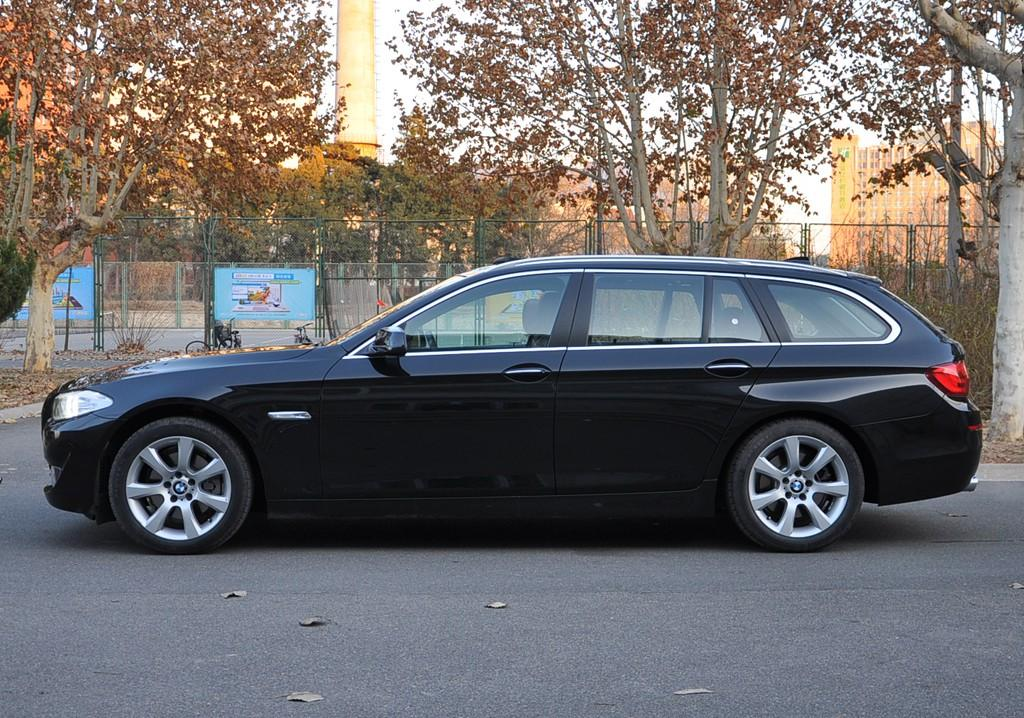Wagon: (39, 253, 983, 554)
